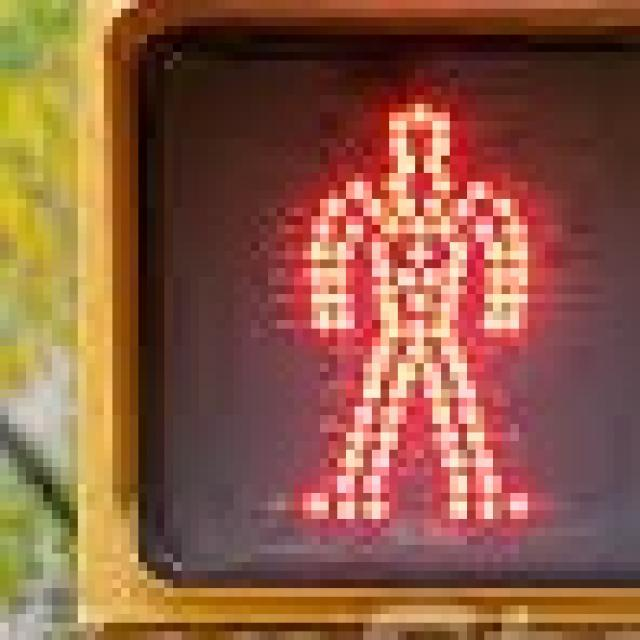red-light: (235, 44, 581, 563)
